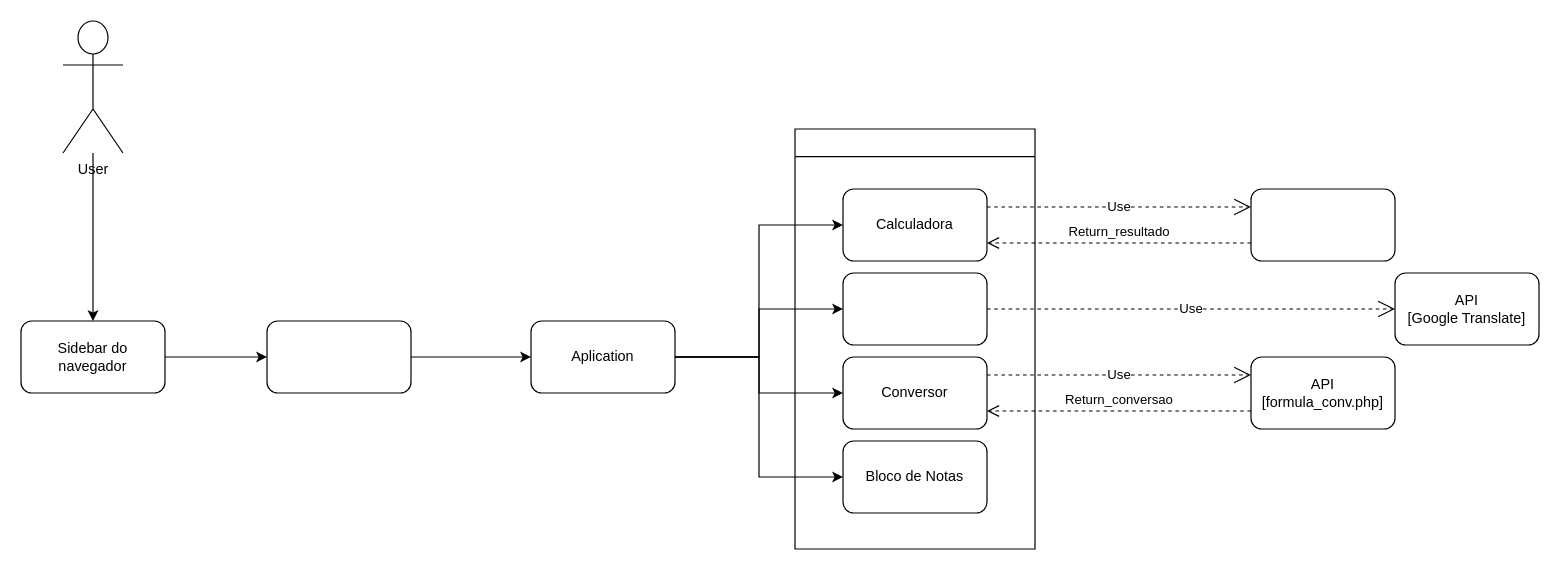
Some shapes in this 1560 by 570 pixel diagram are drawn without their labels. The shapes that lost their labels are listed below. From the top down, each one's box as (x1, y1, x2, y2) in pixels, then its label:
(1250, 188, 1395, 261): API [formula_calc.php]
(842, 272, 987, 345): Tradutor
(266, 320, 411, 393): API [extensao do navegador]
(794, 128, 1035, 549): Services[Apps]
